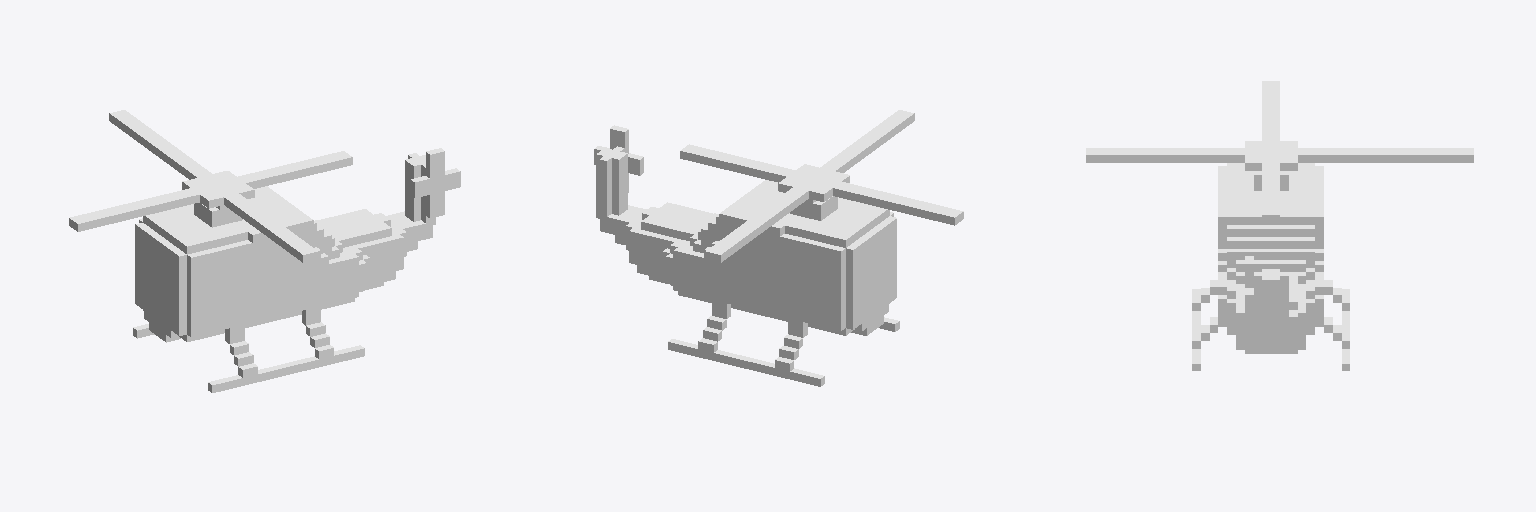
Rendered from HELO.obj.
3 renders of one model, left to right at view 1: azimuth 30°, elevation 25°; view 2: azimuth 150°, elevation 25°; view 3: azimuth 270°, elevation 25°, orthographic.
Bounding box in the file's own units: 49 × 21 × 44.